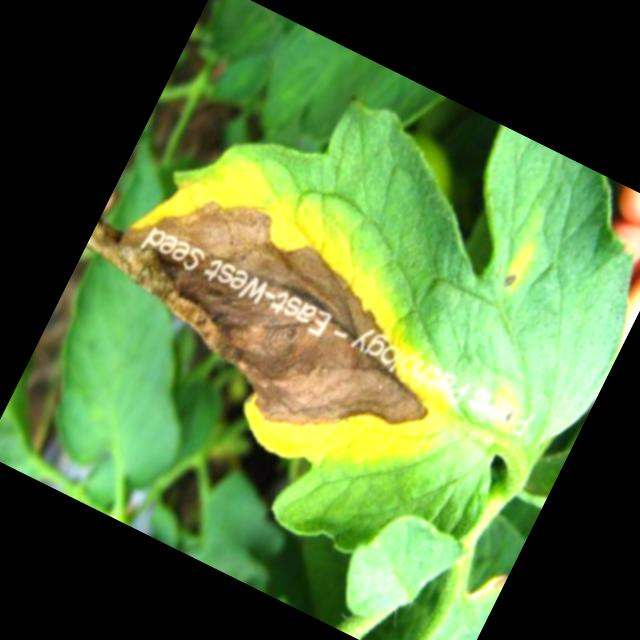Early_blight: (40, 117, 514, 518), (498, 403, 522, 431), (499, 271, 524, 295)
